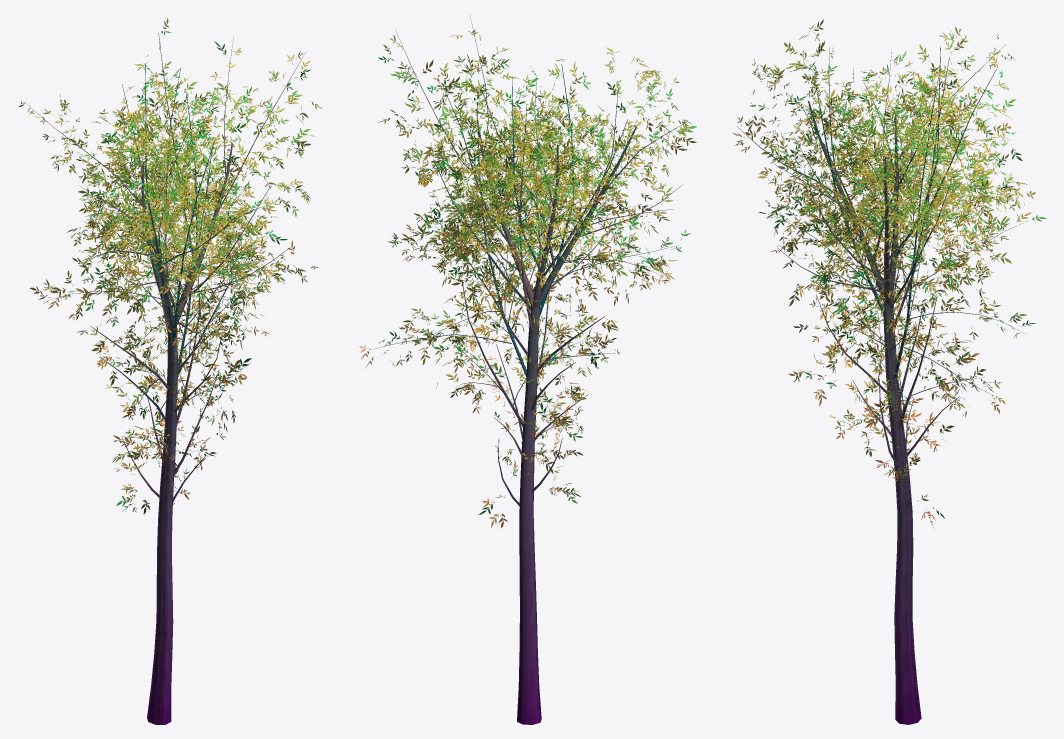
3 renders of one model, left to right at view 1: azimuth 30°, elevation 25°; view 2: azimuth 150°, elevation 25°; view 3: azimuth 270°, elevation 25°, orthographic. The views are drawn at different scales.
Parts seen in each view (by area): view 1: narrowleaf_cottonwood_LOD1; view 2: narrowleaf_cottonwood_LOD1; view 3: narrowleaf_cottonwood_LOD1.
Part boxes in pixels (x1=…): narrowleaf_cottonwood_LOD1: x1=19, y1=18, x2=321, y2=724; narrowleaf_cottonwood_LOD1: x1=359, y1=15, x2=696, y2=724; narrowleaf_cottonwood_LOD1: x1=733, y1=19, x2=1046, y2=724.
Size of the model in its own units: 7.89 by 17.41 by 7.17.
2 materials, 2 textured.
